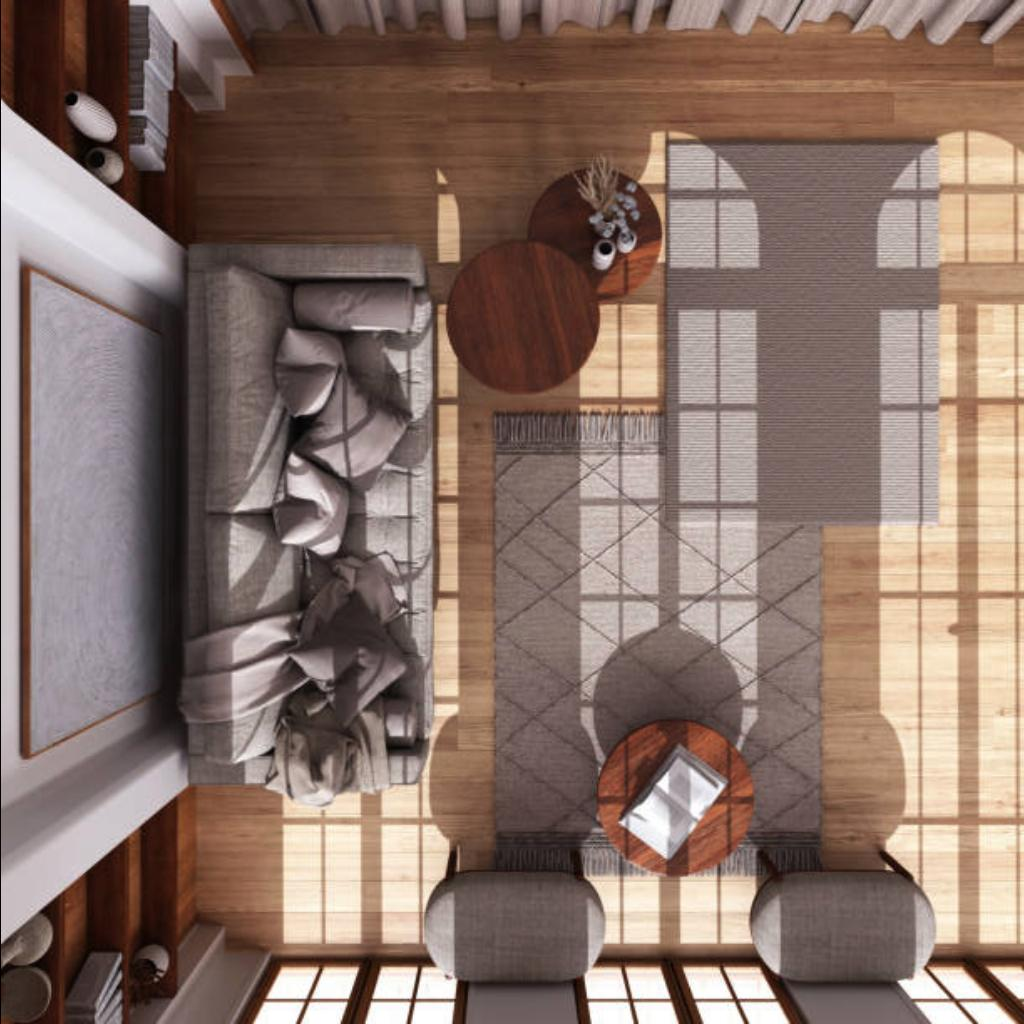coffee table: (444, 166, 660, 392), (595, 719, 751, 877)
ottoman: (746, 860, 934, 986), (420, 860, 604, 984)
rug: (489, 408, 821, 880), (668, 140, 946, 532)
shelves: (58, 787, 172, 1023), (57, 0, 169, 236)
sofa: (184, 239, 430, 787)
window: (610, 2, 1024, 18), (220, 2, 604, 18), (234, 1004, 458, 1024), (585, 1004, 793, 1022), (922, 1002, 1024, 1022)
